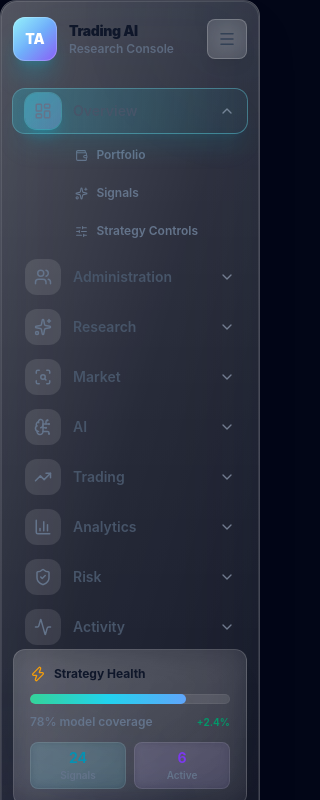
Sidebar › renders primary sidebar navigation and expands child links
Expected: the navigation bar named "main navigation" is shown, [13,89,247,649]
Click the button "Trading": point(130, 477) [13,455,247,499]
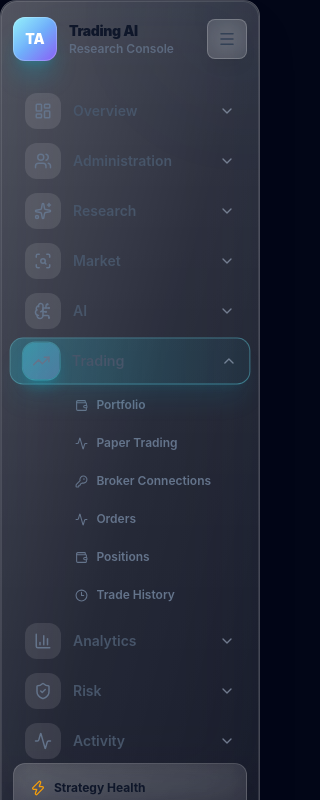
Result: the link "Paper Trading" is shown at [75,435,178,450]
Result: the link "Broker Connections" is shown at [75,473,211,488]
